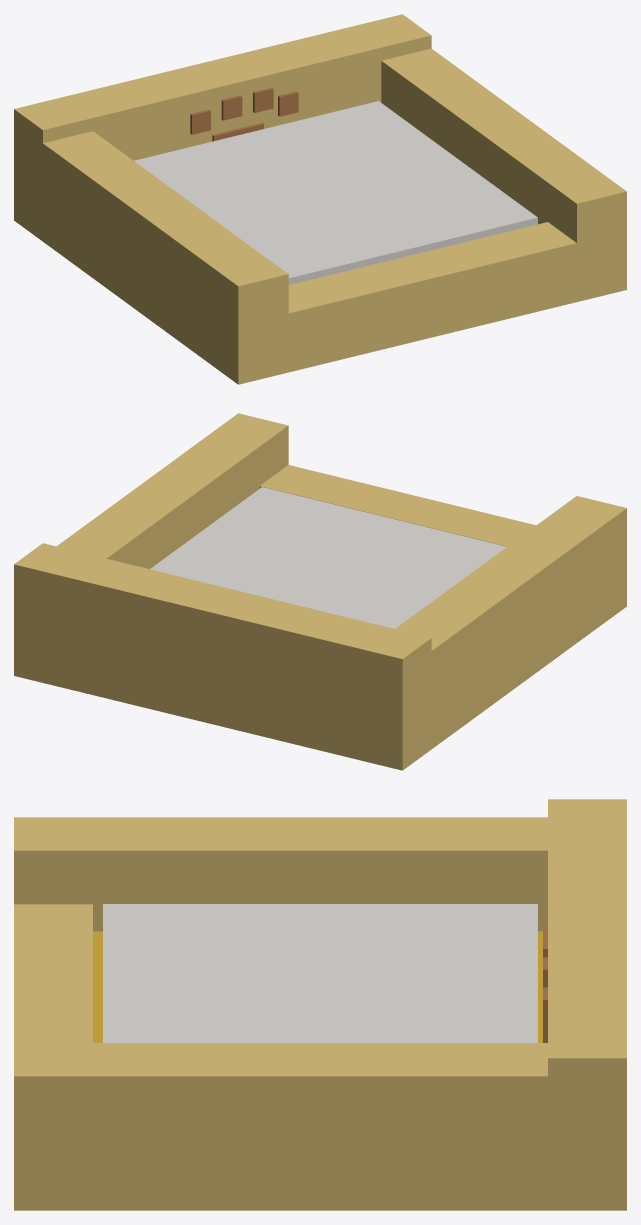
Rendered from ncb-pet-bed-yellow.glb.
3 views of the same model, one above another, from view 1: azimuth 30°, elevation 25°; view 2: azimuth 150°, elevation 25°; view 3: azimuth 270°, elevation 25° (orthographic). The views are drawn at different scales.
Parts seen in each view (by area): view 1: box-prop; view 2: box-prop; view 3: box-prop.
Boxes of the visible parts, x1,y1,x2,y2 form: box-prop: (14,14,626,384); box-prop: (14,413,626,770); box-prop: (14,799,626,1210).
Bounding box in the file's own units: 1.24 × 0.34 × 1.24.
